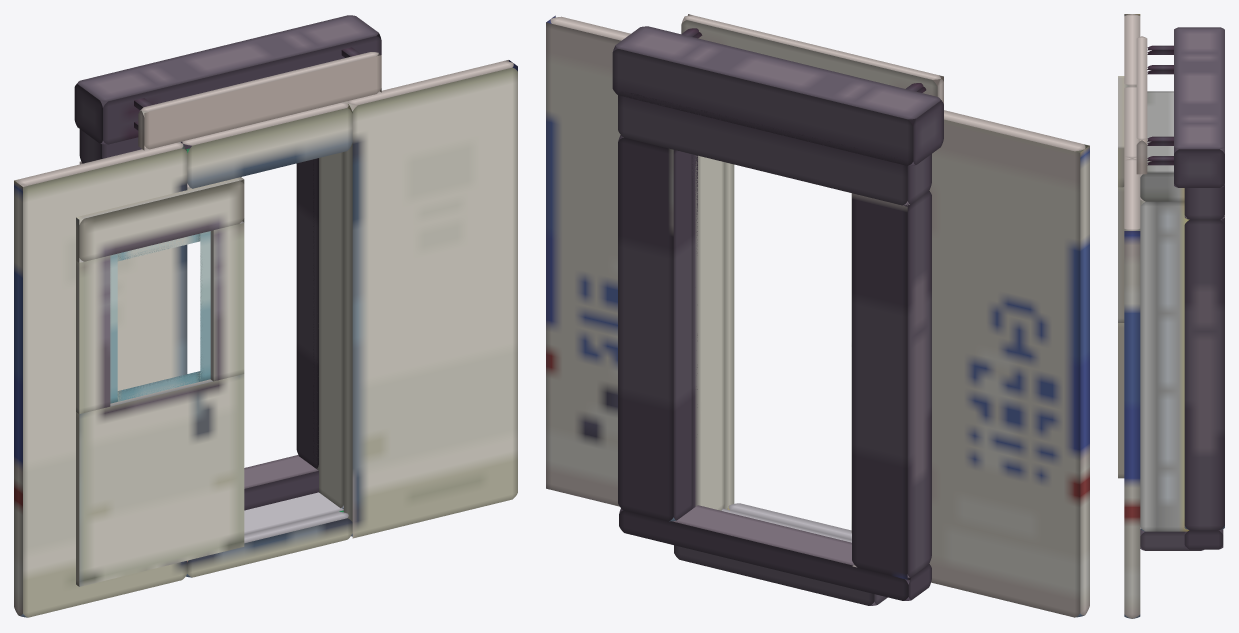
File: m1_door_end_face_open.obj
The picture shows the model from 3 angles, left to right: view 1: azimuth 30°, elevation 25°; view 2: azimuth 150°, elevation 25°; view 3: azimuth 270°, elevation 25°; orthographic projection. The views are drawn at different scales.
Parts seen in each view (by area): view 1: cube_selection_selection, cube; view 2: cube_selection_selection; view 3: cube_selection_selection, cube.
Part boxes in pixels (bbox=[...]): cube_selection_selection: bbox=[14, 15, 517, 617]; cube: bbox=[76, 177, 244, 586]; cube_selection_selection: bbox=[546, 14, 1089, 617]; cube_selection_selection: bbox=[1124, 14, 1224, 618]; cube: bbox=[1118, 76, 1128, 478].
Size of the model in its own units: 3 by 2.72 by 0.6233.
